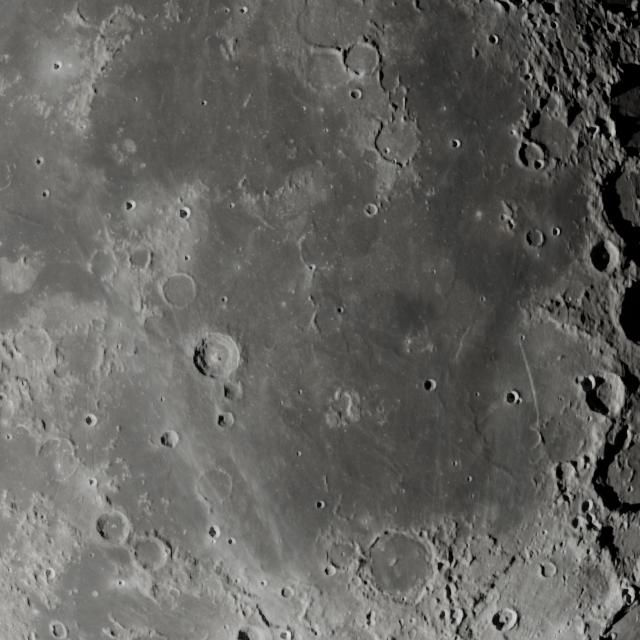crater: (193, 333, 240, 381), (578, 372, 624, 416), (589, 237, 620, 279), (516, 139, 546, 173), (492, 606, 518, 631), (525, 227, 546, 251), (579, 376, 599, 392), (362, 204, 378, 218), (422, 378, 438, 391), (506, 389, 520, 403), (349, 89, 363, 101), (179, 209, 191, 223), (125, 200, 133, 212), (552, 228, 561, 238), (488, 37, 499, 45), (452, 136, 460, 147)
rock: (498, 614, 509, 624), (212, 355, 223, 364)
